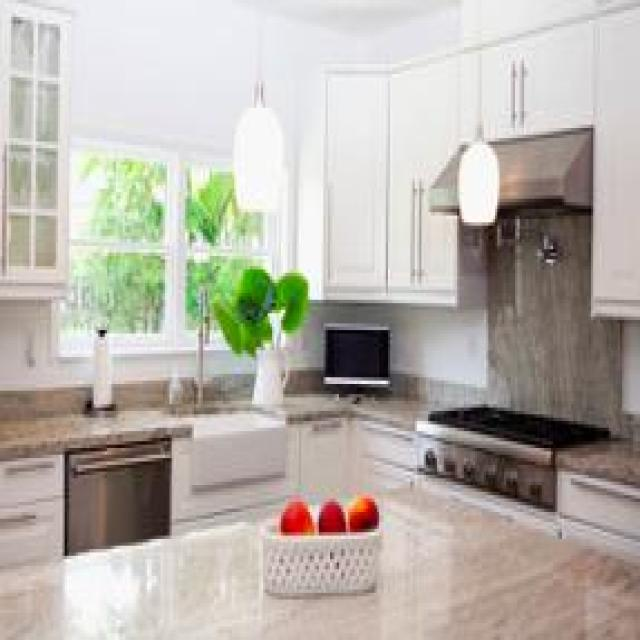dishwasher: (64, 434, 170, 552)
